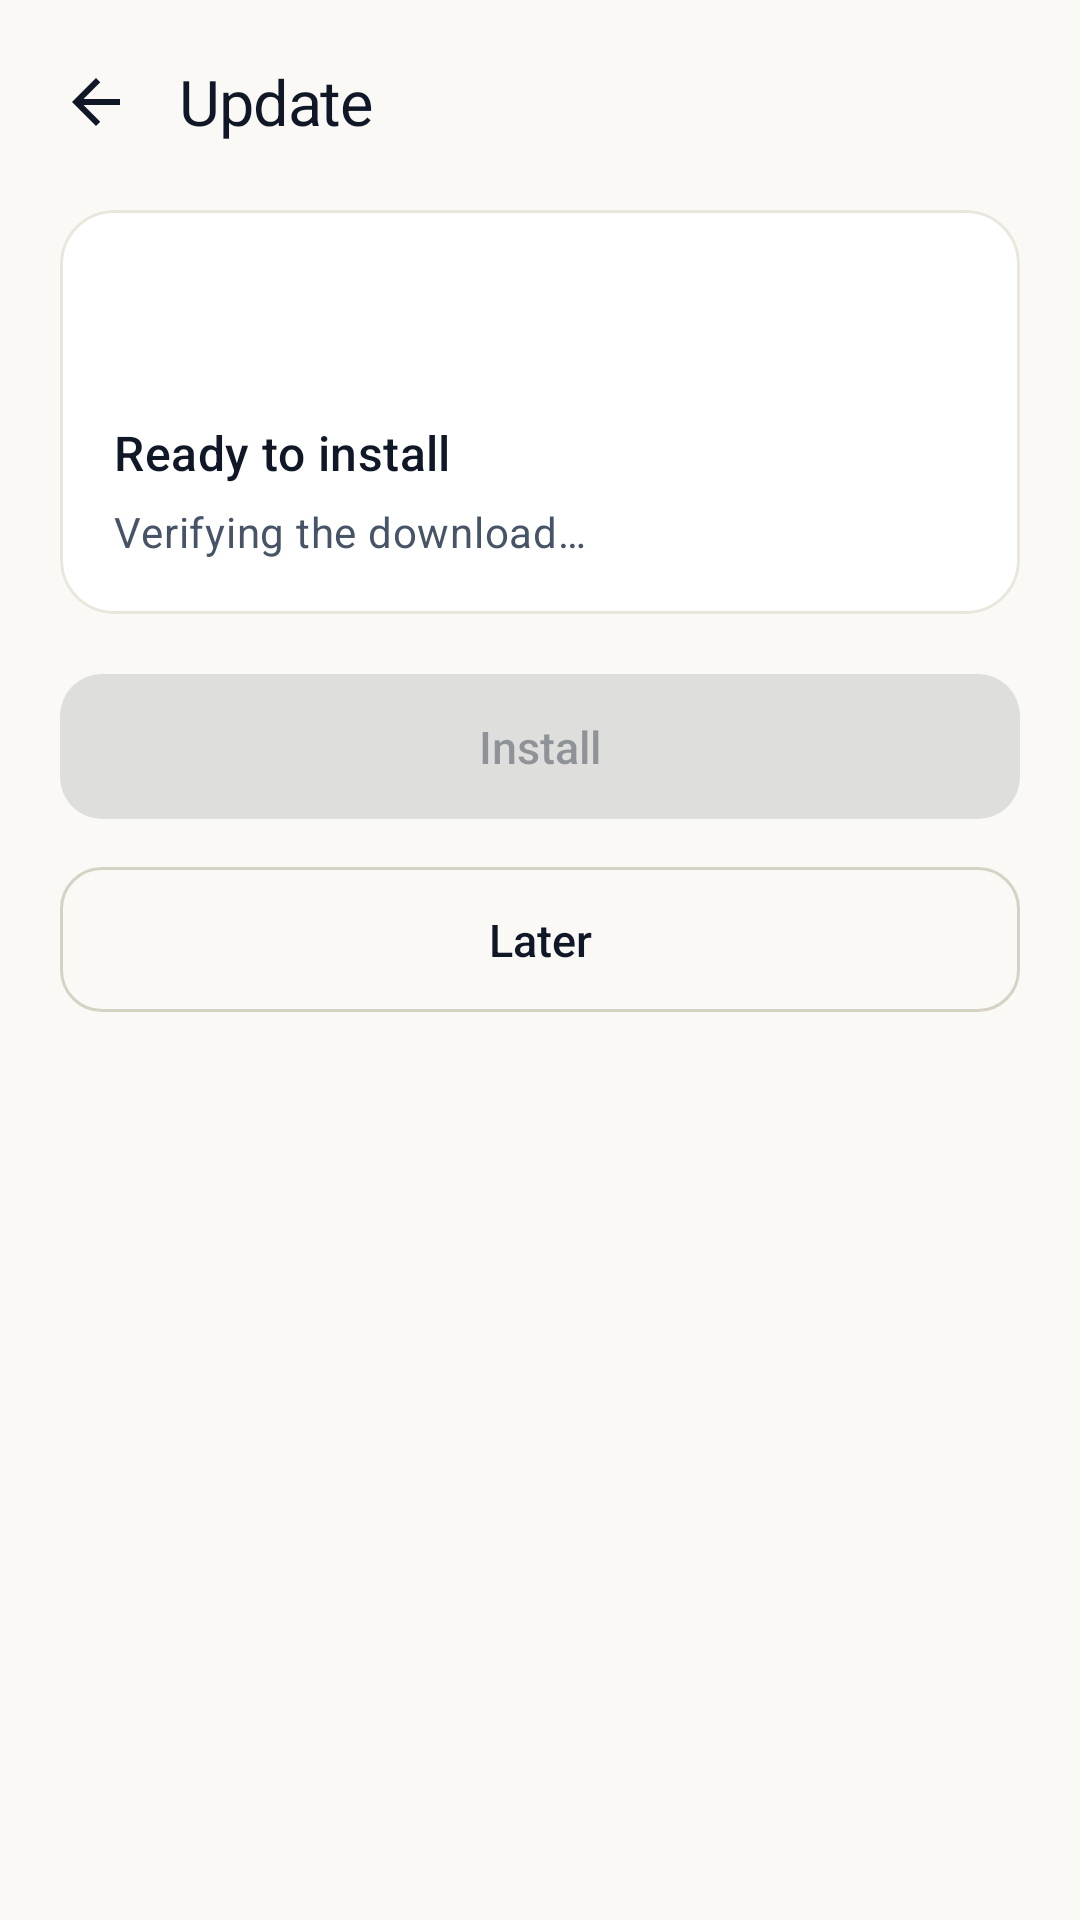

Icons on this 1080w x 1920h Android screen, each with the point to tap as (x,y):
Back: (96,102)
